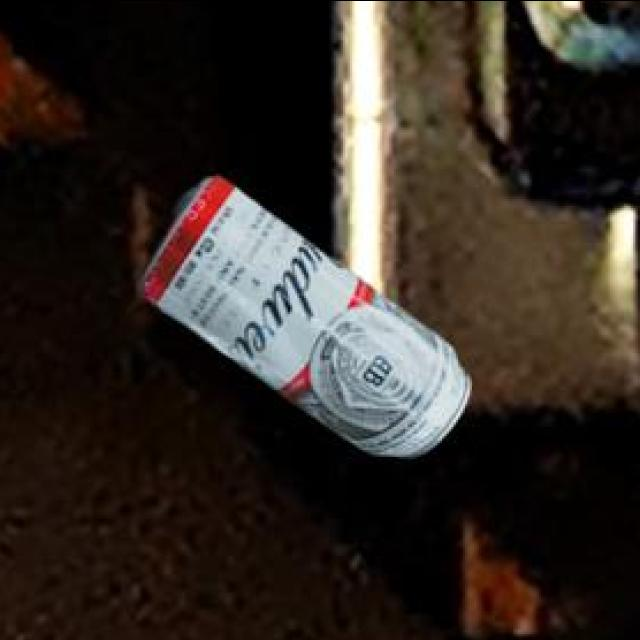logam: (135, 178, 466, 459)
